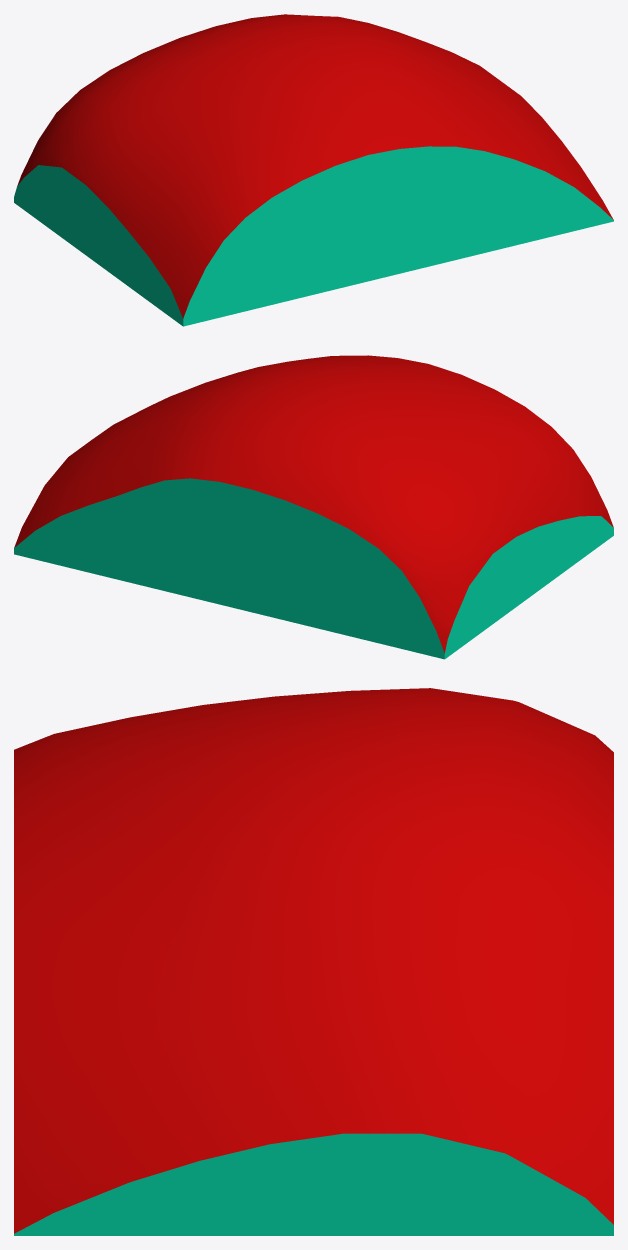
The picture shows the model from 3 angles, top to bottom: view 1: azimuth 30°, elevation 25°; view 2: azimuth 150°, elevation 25°; view 3: azimuth 270°, elevation 25°; orthographic projection. The views are drawn at different scales.
Visible parts, largest first — view 1: 37_04; view 2: 37_04; view 3: 37_04.
Boxes of the visible parts, x1,y1,x2,y2 form: 37_04: (14,14,613,326); 37_04: (14,355,613,659); 37_04: (14,688,613,1235).
Size of the model in its own units: 390 by 142 by 266.
